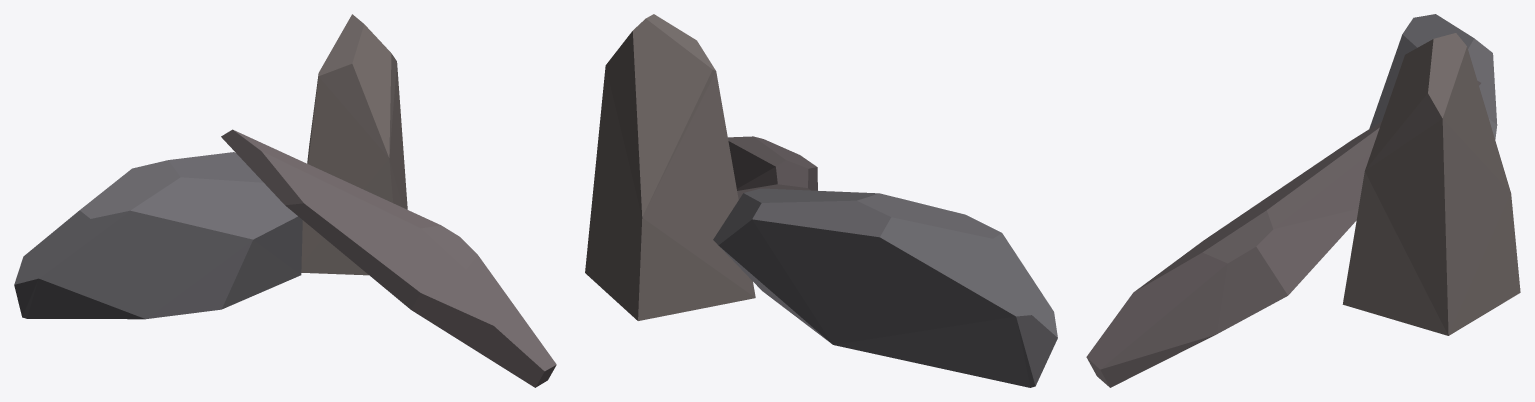
The model's file is Rocks_Sharp_m_01.fbx.
3 views of the same model, side by side, from view 1: azimuth 30°, elevation 25°; view 2: azimuth 150°, elevation 25°; view 3: azimuth 270°, elevation 25° (orthographic). The views are drawn at different scales.
Parts seen in each view (by area): view 1: Rocks_Sharp_m_01; view 2: Rocks_Sharp_m_01; view 3: Rocks_Sharp_m_01.
Part boxes in pixels (x1,y1,x2,y2): Rocks_Sharp_m_01: (14,14,556,387); Rocks_Sharp_m_01: (585,14,1057,387); Rocks_Sharp_m_01: (1086,14,1520,387).
Size of the model in its own units: 197 by 130 by 157.
